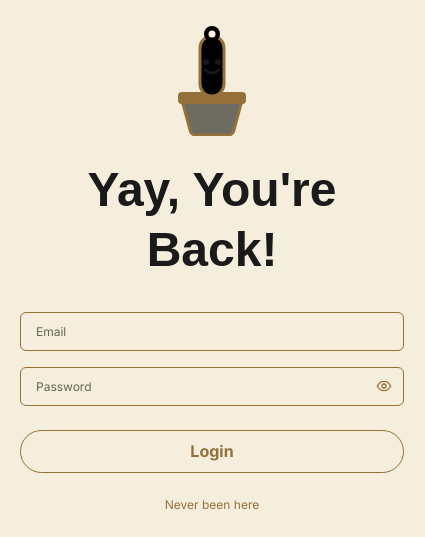
it: AuthForm › shows a validation error for a short password
In the field labelled "Email": (212, 331) [20,312,404,350], type "user@example.com"
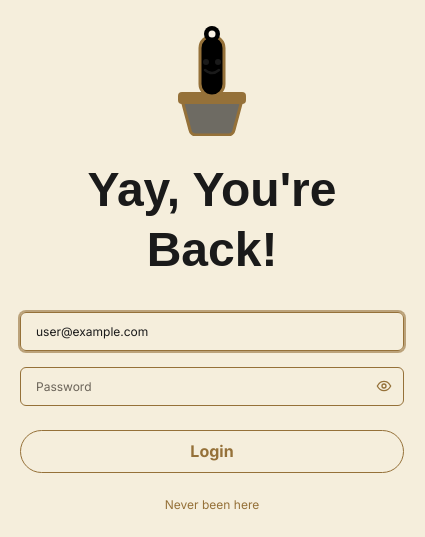
In the password field labelled "Password": (212, 386) [20,366,404,406], type "short"
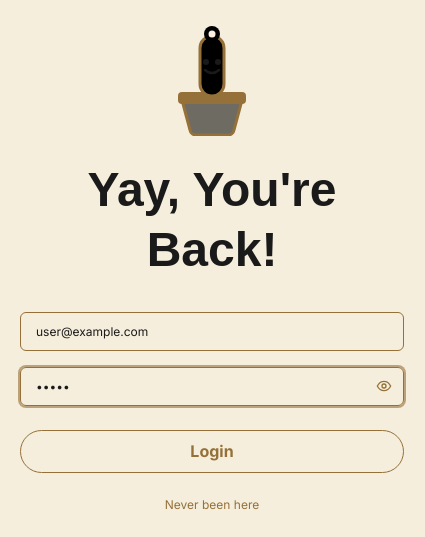
Click the button "Login": click(212, 451) [20,430,404,472]
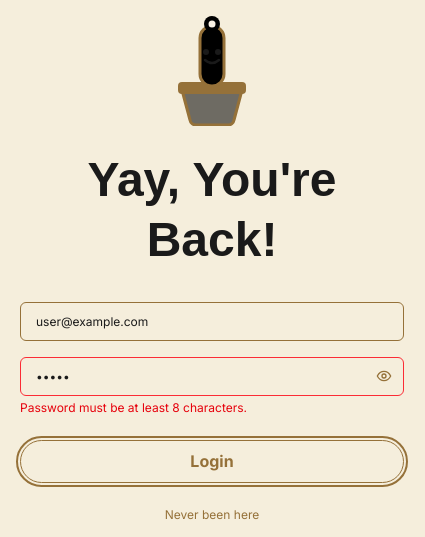
Expected: the text "Password must be at least 8 characters." is shown, [20,400,247,414]
